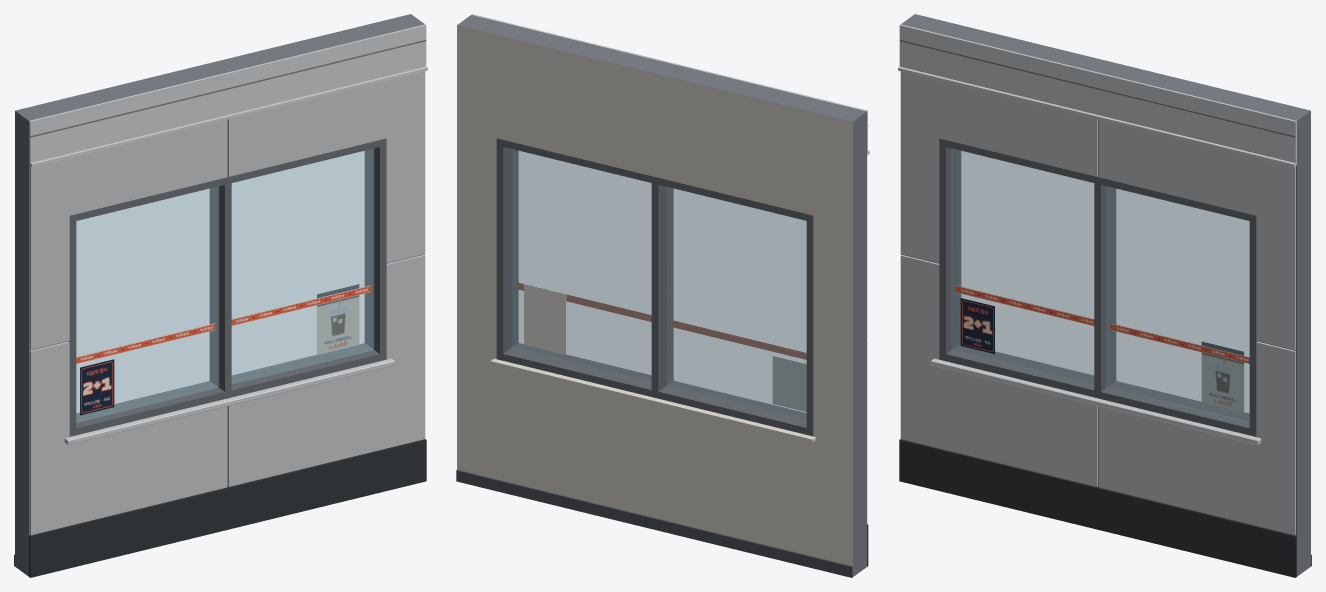
File: SC_Bld_Store_Wall_Side_Window_3m.gltf
The picture shows the model from 3 angles, left to right: view 1: azimuth 30°, elevation 25°; view 2: azimuth 150°, elevation 25°; view 3: azimuth 330°, elevation 25°; orthographic projection.
Visible parts, largest first — view 1: SC_Bld_Store_Wall_Side_Window_3m; view 2: SC_Bld_Store_Wall_Side_Window_3m; view 3: SC_Bld_Store_Wall_Side_Window_3m.
Boxes of the visible parts, left/top/right/bottom form: SC_Bld_Store_Wall_Side_Window_3m: left=14, top=14, right=427, bottom=577; SC_Bld_Store_Wall_Side_Window_3m: left=456, top=14, right=869, bottom=577; SC_Bld_Store_Wall_Side_Window_3m: left=898, top=14, right=1311, bottom=577.
Bounding box in the file's own units: 3 × 3.3 × 0.29.
3 materials, 3 textured.
